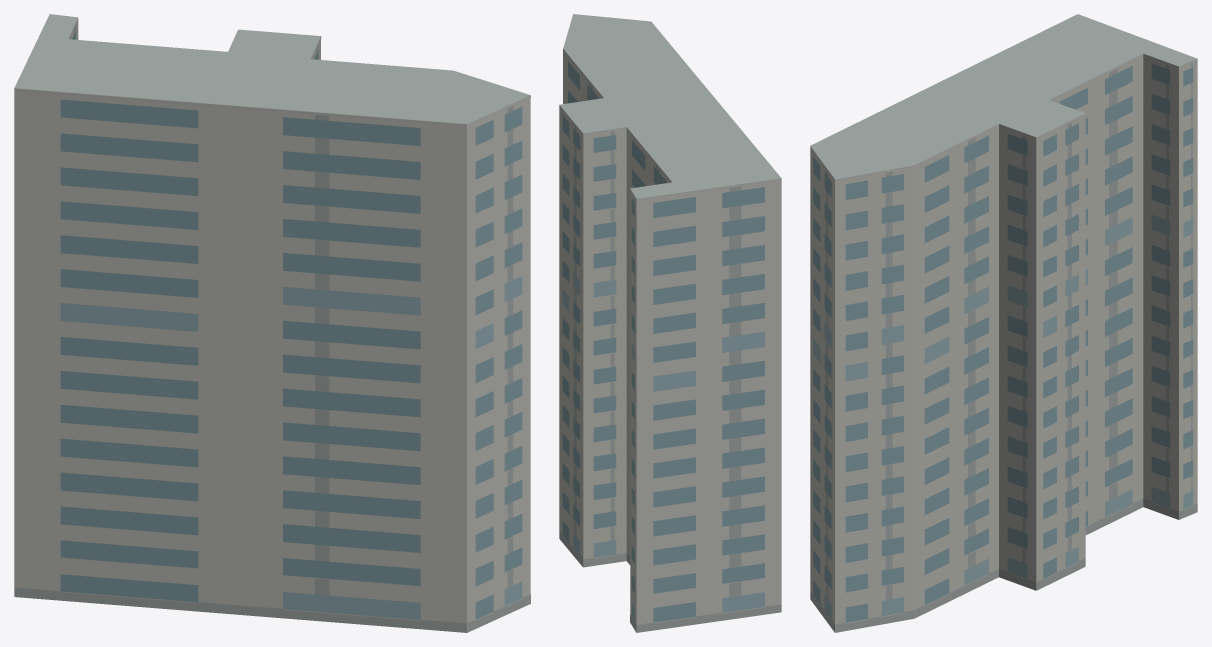
The model's file is residential-0d53f659-2c4b-4fca-83d2-a3c3ffcc56aa.glb.
3 views of the same model, side by side, from view 1: azimuth 30°, elevation 25°; view 2: azimuth 150°, elevation 25°; view 3: azimuth 270°, elevation 25° (orthographic). The views are drawn at different scales.
Visible parts, largest first — view 1: residential-0d53f659-2c4b-4fca-83d2-a3c3ffcc56aa.tmp; view 2: residential-0d53f659-2c4b-4fca-83d2-a3c3ffcc56aa.tmp; view 3: residential-0d53f659-2c4b-4fca-83d2-a3c3ffcc56aa.tmp.
Boxes of the visible parts, left/top/right/bottom form: residential-0d53f659-2c4b-4fca-83d2-a3c3ffcc56aa.tmp: left=14, top=14, right=530, bottom=632; residential-0d53f659-2c4b-4fca-83d2-a3c3ffcc56aa.tmp: left=559, top=14, right=781, bottom=632; residential-0d53f659-2c4b-4fca-83d2-a3c3ffcc56aa.tmp: left=810, top=14, right=1197, bottom=632.
Bounding box in the file's own units: 35.82 × 45.75 × 35.44.
